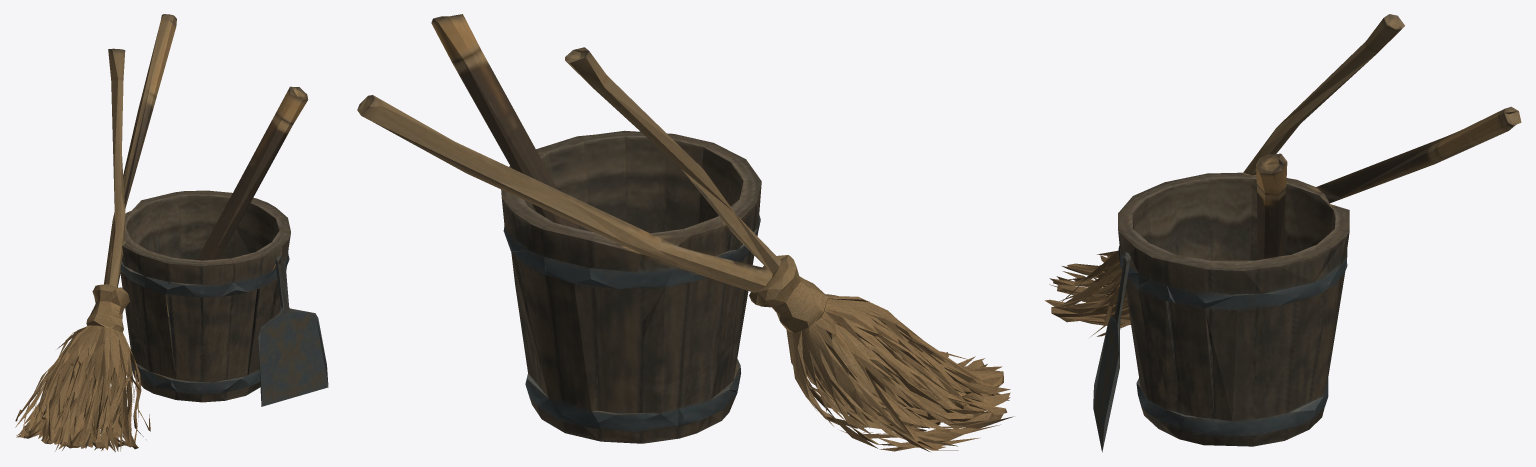
File: broom_bucket.glb
The picture shows the model from 3 angles, left to right: view 1: azimuth 30°, elevation 25°; view 2: azimuth 150°, elevation 25°; view 3: azimuth 270°, elevation 25°; orthographic projection. The views are drawn at different scales.
Visible parts, largest first — view 1: output_unwrapped; view 2: output_unwrapped; view 3: output_unwrapped.
Boxes of the visible parts, x1,y1,x2,y2 form: output_unwrapped: (15,14,328,451); output_unwrapped: (357,14,1013,451); output_unwrapped: (1045,14,1521,452).
Size of the model in its own units: 1.49 by 1.2 by 1.37.
Materials: 1 (1 with a texture image).
